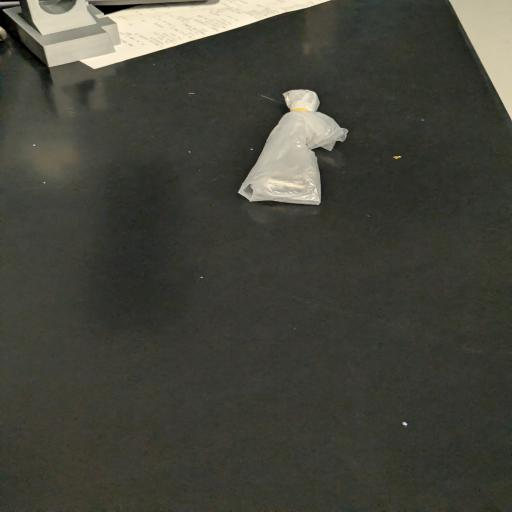rubberband: (231, 84, 354, 208)
